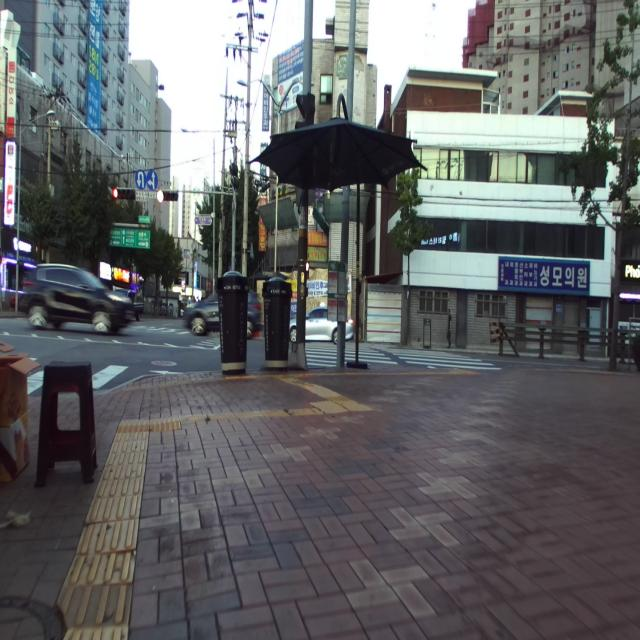횡단보도: (304, 342, 502, 370)
